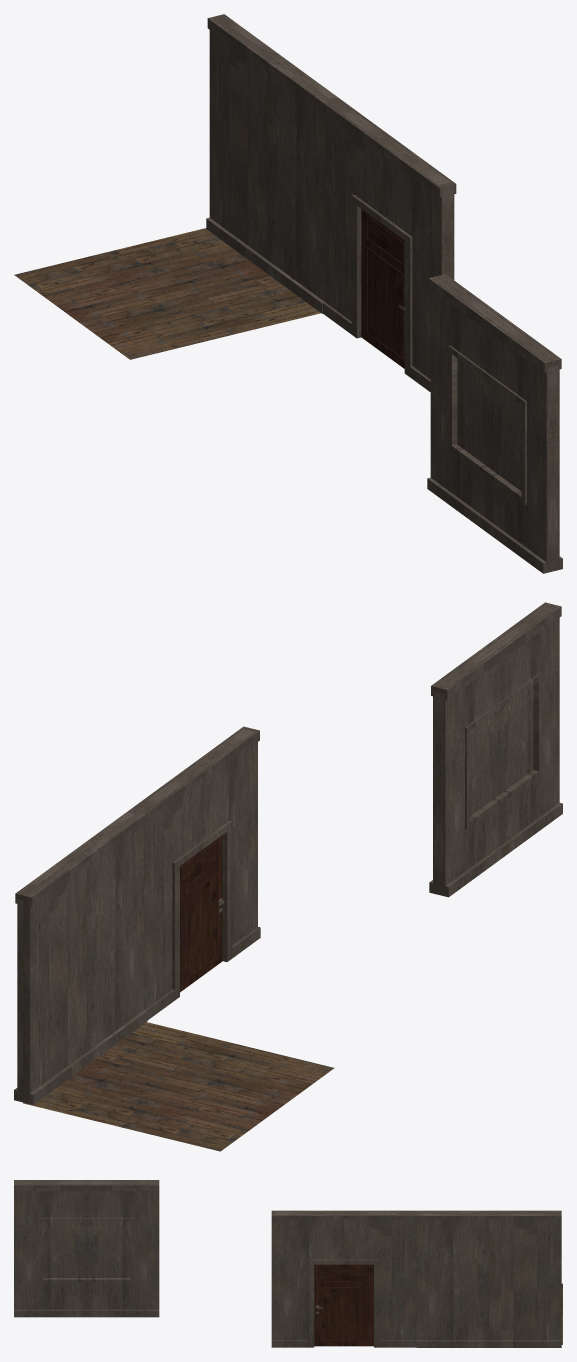
Rendered from Rumah Dayak Asset.glb.
3 views of the same model, one above another, from view 1: azimuth 30°, elevation 25°; view 2: azimuth 150°, elevation 25°; view 3: azimuth 270°, elevation 25° (orthographic). The views are drawn at different scales.
Visible parts, largest first — view 1: Jendela, Tembok, TembokPintu, Lantai; view 2: Jendela, Tembok, TembokPintu, Lantai; view 3: Tembok, Jendela, TembokPintu.
Part boxes in pixels (box(x1,y1,x2,y2)): Jendela: box(427, 274, 562, 573); Tembok: box(206, 14, 339, 313); TembokPintu: box(323, 99, 456, 391); Lantai: box(14, 228, 320, 359); Jendela: box(429, 602, 562, 897); Tembok: box(14, 810, 147, 1104); TembokPintu: box(130, 726, 260, 1019); Lantai: box(23, 1022, 334, 1151); Tembok: box(416, 1210, 561, 1347); Jendela: box(14, 1180, 159, 1317); TembokPintu: box(271, 1210, 416, 1347).
Size of what is drawn, in the model's own units: 8.39 by 8 by 30.24.
Materials: 4 (4 with a texture image).
